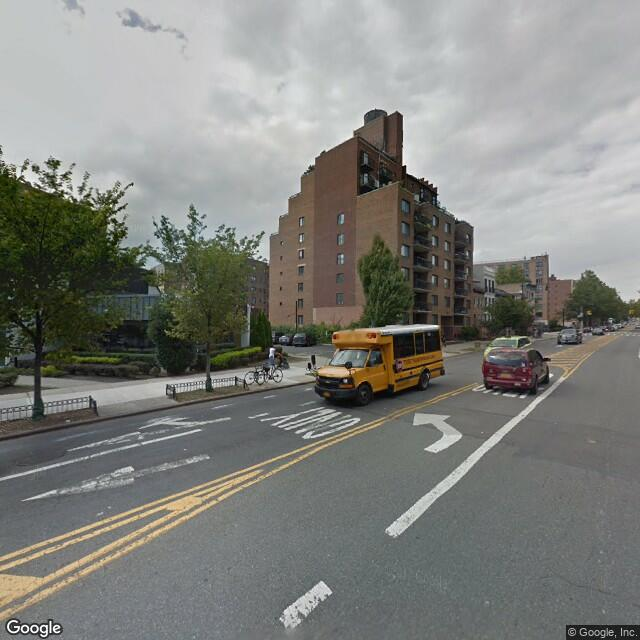litter: (63, 416, 74, 421)
